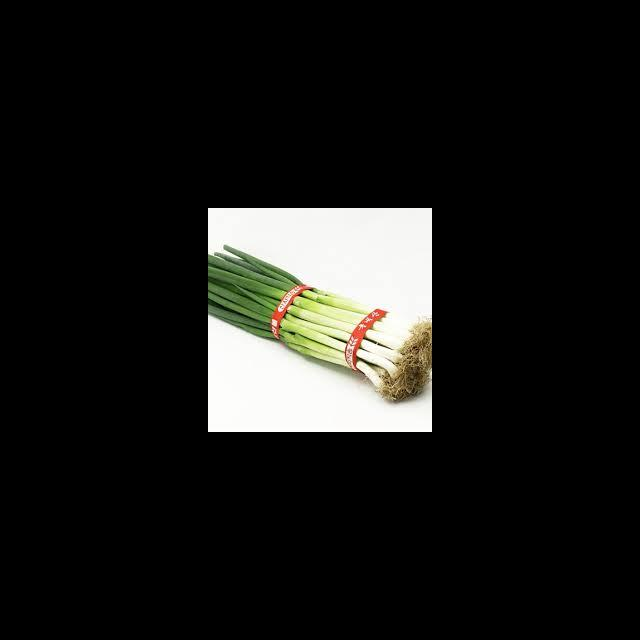green_onion: (208, 245, 432, 400)
